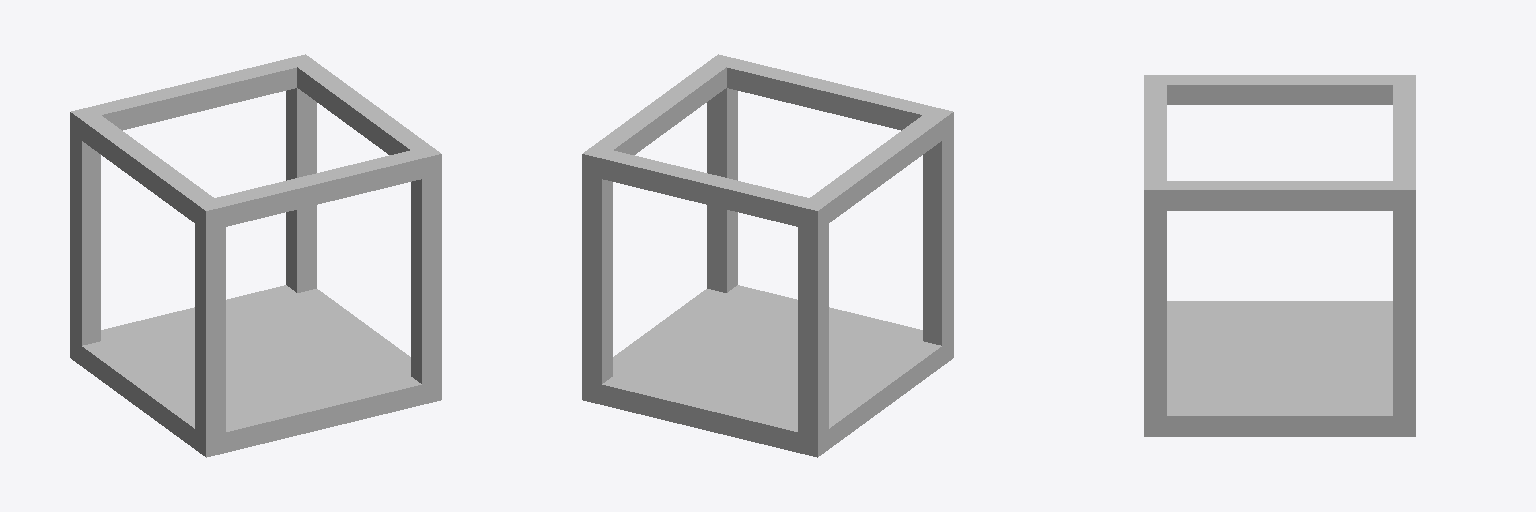
The model's file is Tr-Grue-Caisse.obj.
3 views of the same model, side by side, from view 1: azimuth 30°, elevation 25°; view 2: azimuth 150°, elevation 25°; view 3: azimuth 270°, elevation 25° (orthographic).
Parts seen in each view (by area): view 1: Tr-Grue-Caisse_Caisse_Cube.001; view 2: Tr-Grue-Caisse_Caisse_Cube.001; view 3: Tr-Grue-Caisse_Caisse_Cube.001.
Part boxes in pixels (left/top/right/bottom): Tr-Grue-Caisse_Caisse_Cube.001: left=70, top=54, right=441, bottom=457; Tr-Grue-Caisse_Caisse_Cube.001: left=582, top=54, right=953, bottom=457; Tr-Grue-Caisse_Caisse_Cube.001: left=1144, top=75, right=1415, bottom=436.
Size of the model in its own units: 4 by 4 by 4.